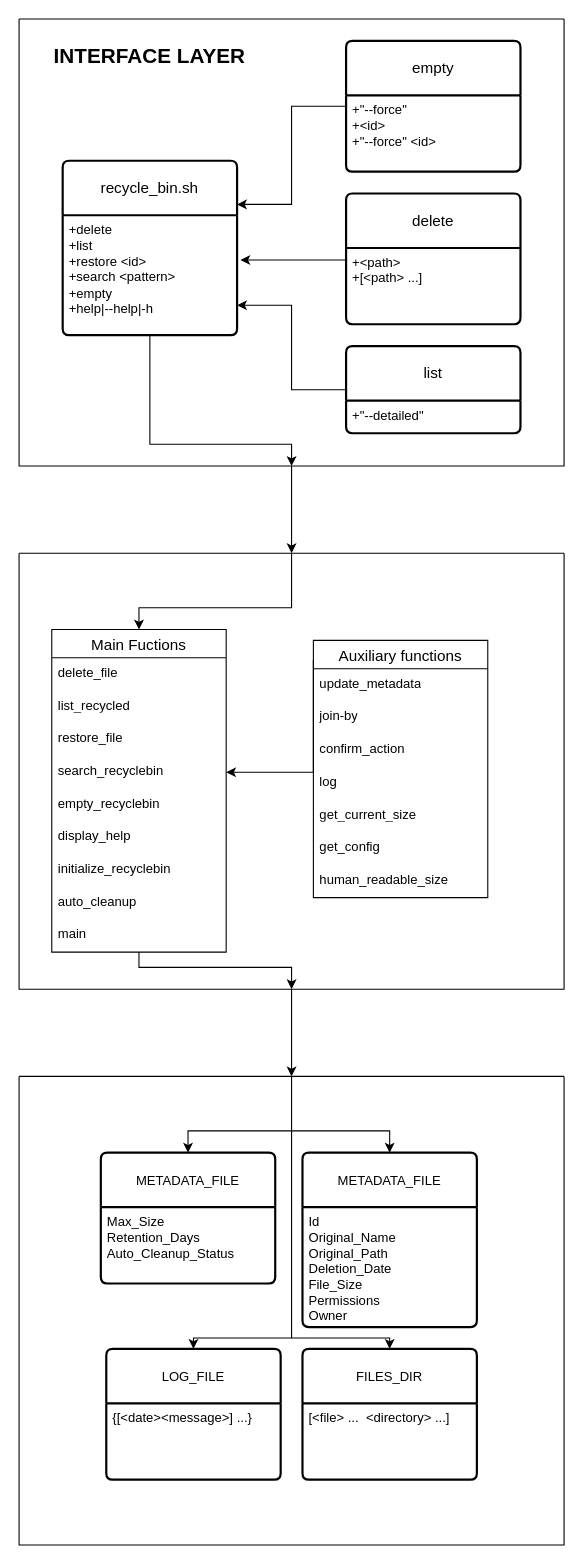
Image size: 583x1564. Some labels were removed from this diagram. The shapes that lost their labels are listed below. From the top down, each one's centre as x and y in pixels, then its label:
(x=291, y=770): LOGIC LAYER
(x=291, y=1310): DATA LAYER
